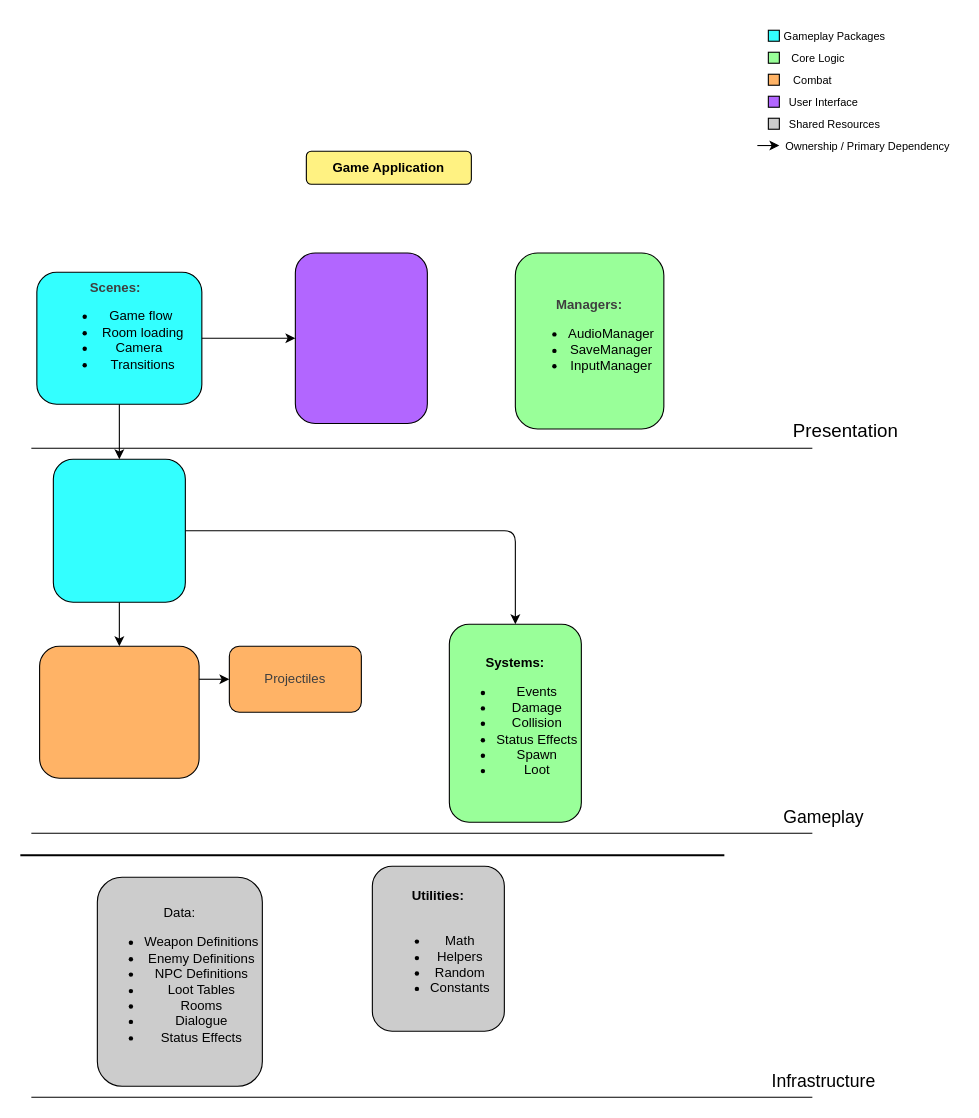
This 979x1118 diagram has some shape labels left out. Here are the shapes that lost their labels. From the top down, the box of each, then its label:
(294, 252, 427, 424): UI: HUD Menus Damage Numbers Boss Bar
(52, 458, 185, 602): Entities: Player Enemy NPC Boss
(38, 645, 199, 778): Weapons: Weapon WeaponFactory Weapon Modules
